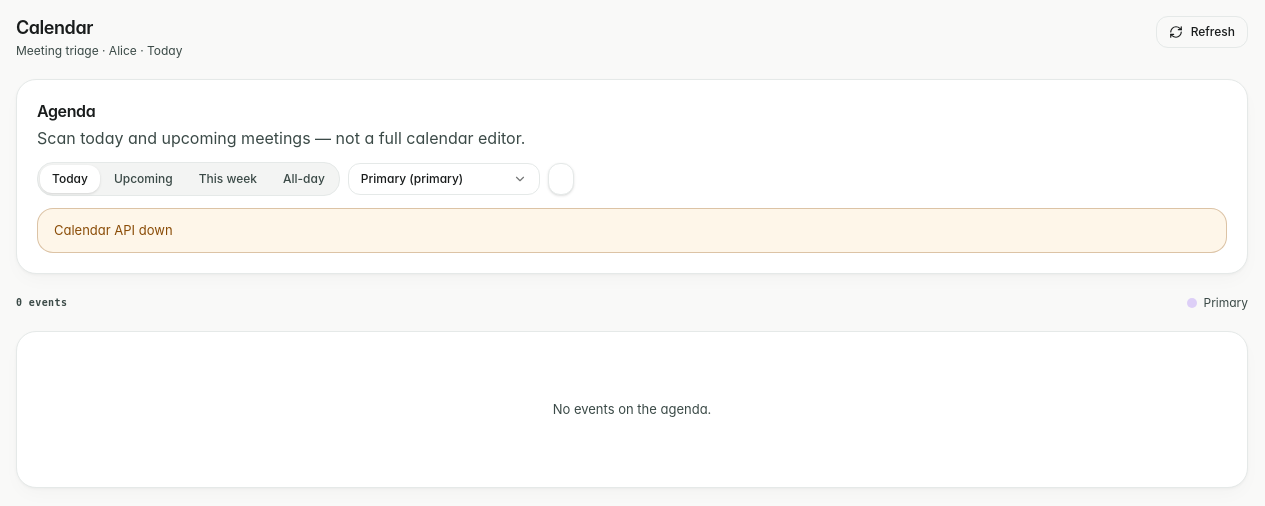
Test: CalendarPage › shows fetch error, refresh, calendar picker, and search filter
Expected: the text "Calendar API down" is shown, [37, 208, 1227, 253]
Click the button "Refresh" at point(1202, 32), box [1156, 16, 1248, 48]
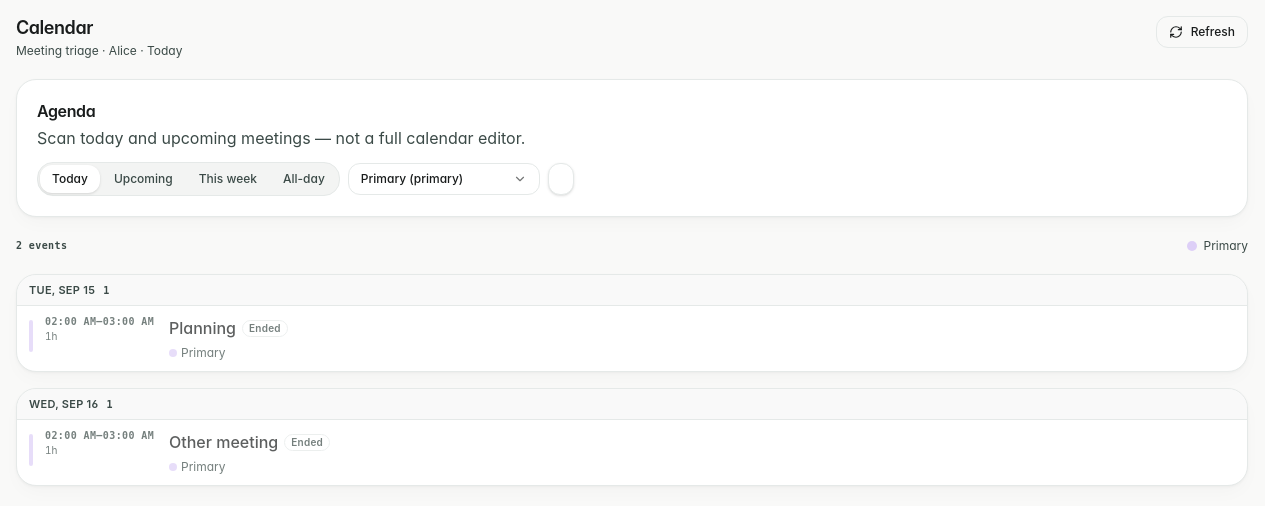
Expected: the text "Planning" is shown, [169, 316, 236, 340]
Click the dropdown named "Calendar" at point(444, 179), box [348, 163, 540, 195]
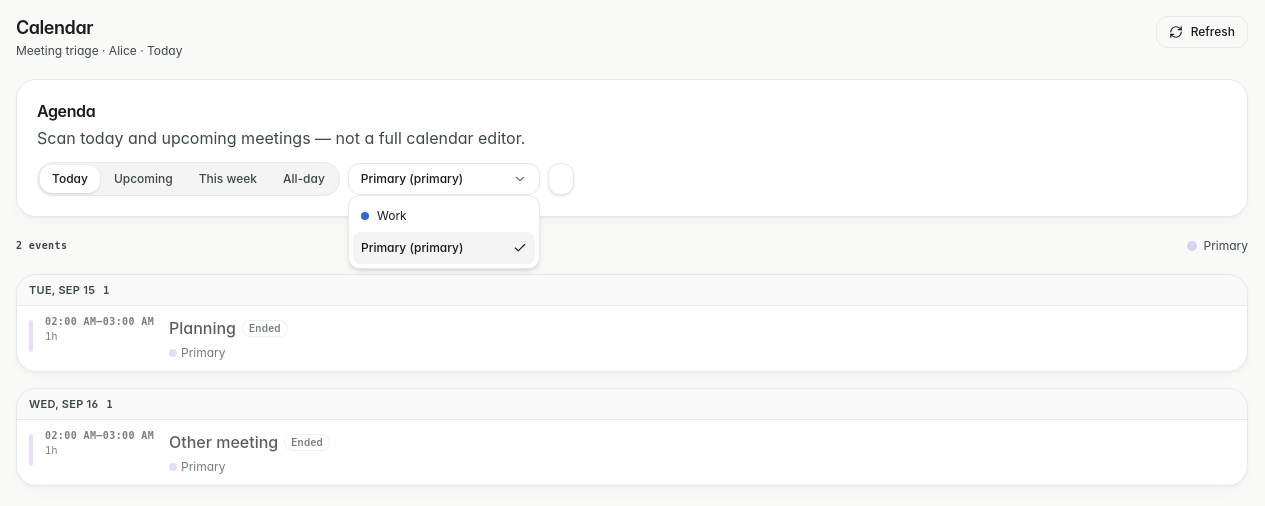
Click the option "Work" at point(384, 216), box [361, 208, 407, 223]
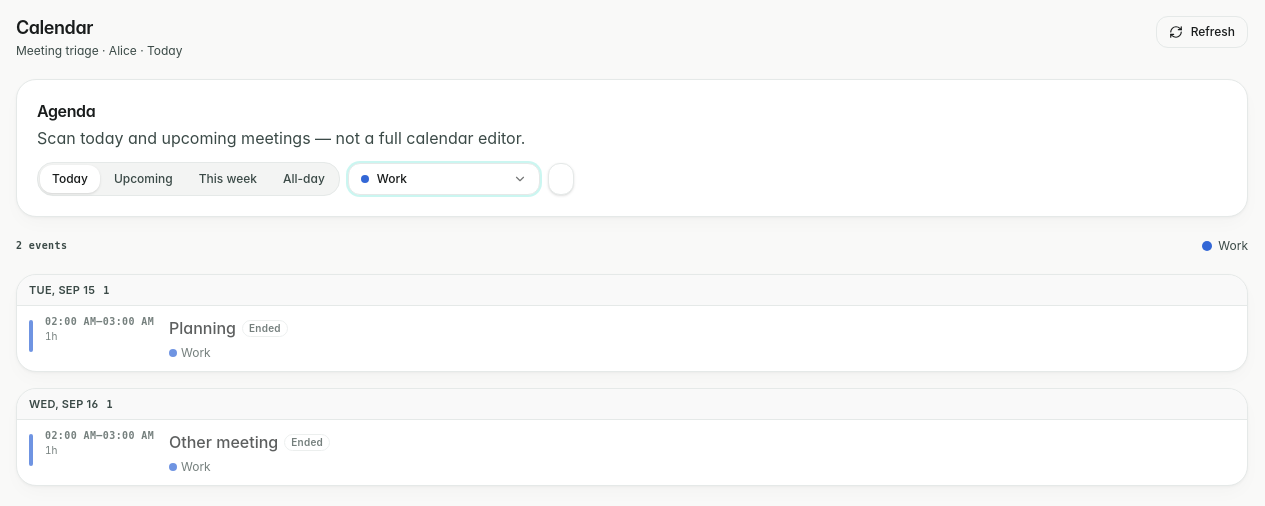
Type "Planning" into the field named "Search events" at point(561, 179), box [548, 163, 574, 195]
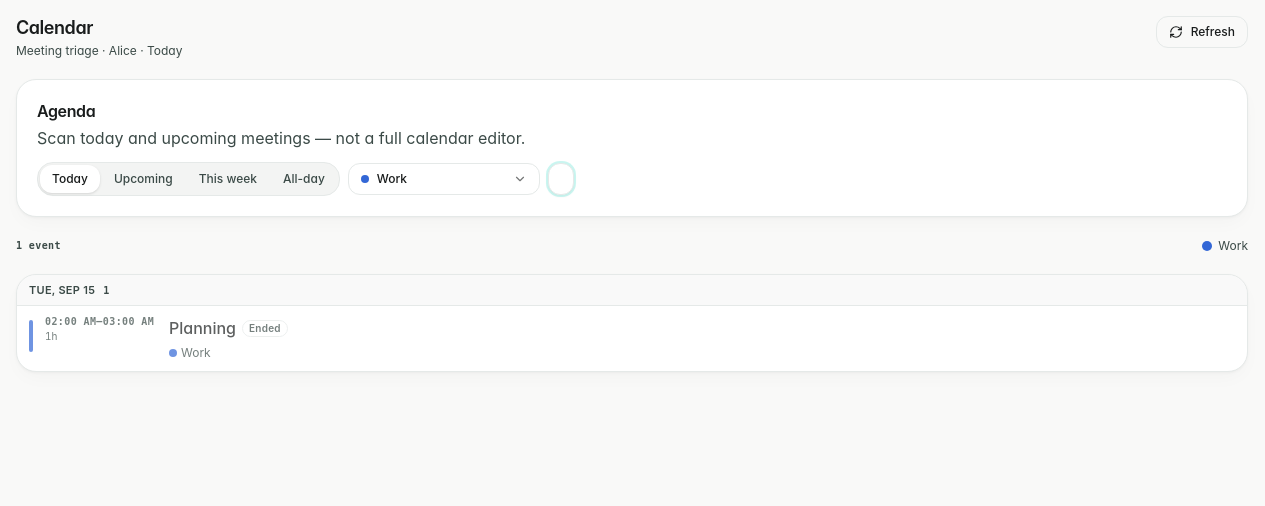
Expected: the text "Planning" is shown, [169, 316, 236, 340]
Expected: the link "Other meeting" is gone
